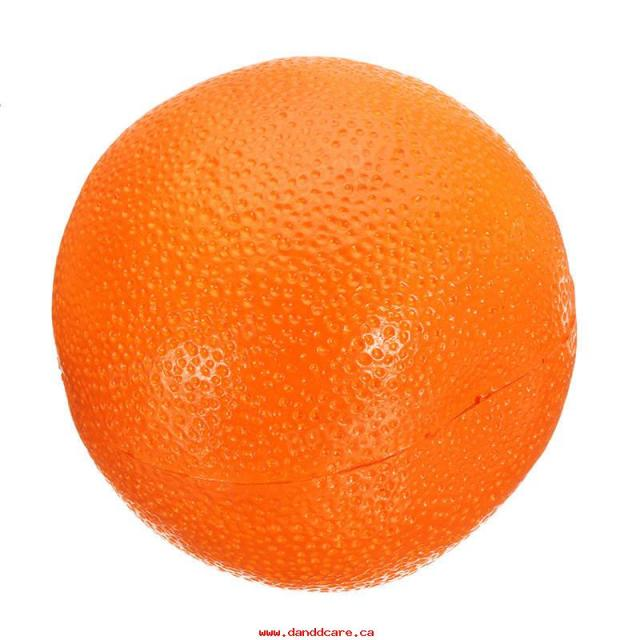orange: (55, 68, 579, 591)
